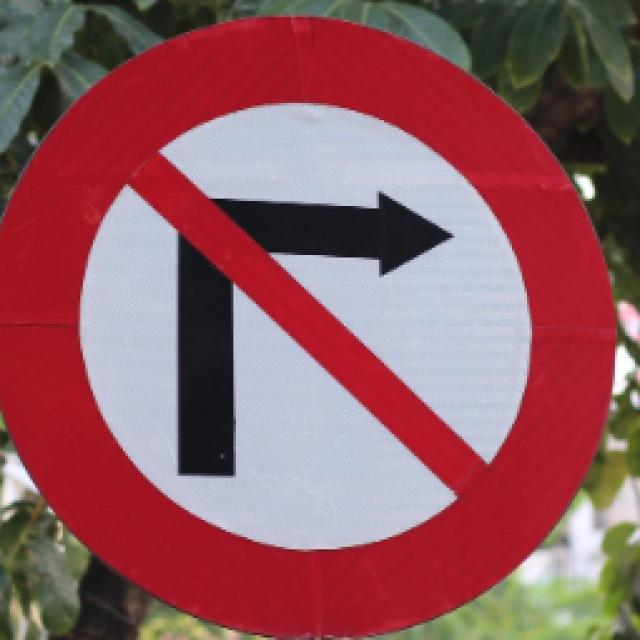Bien bao cam re phai: (1, 4, 640, 636)
